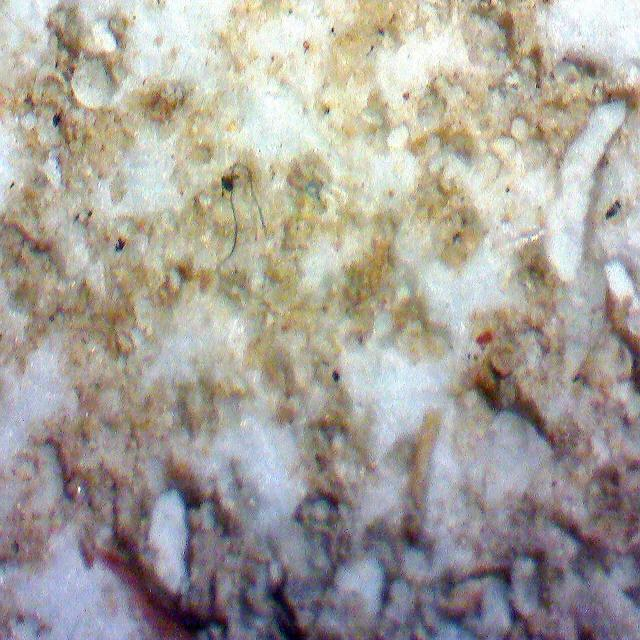microplastic: (229, 162, 266, 256)
